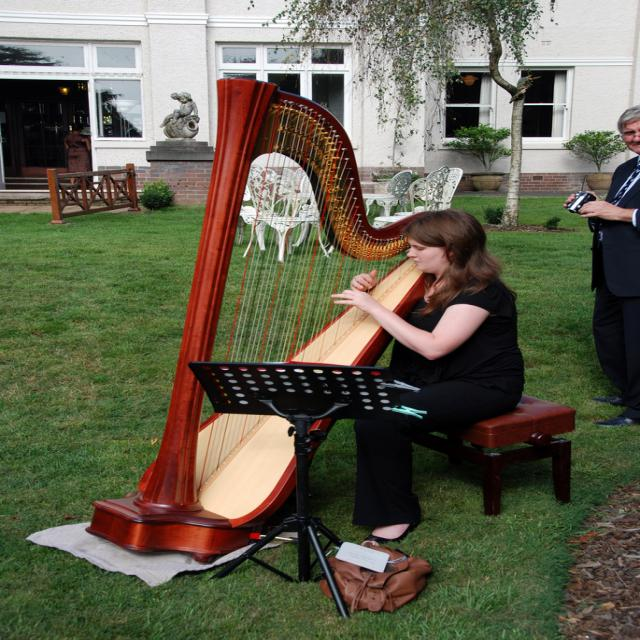harp: (82, 72, 461, 566)
